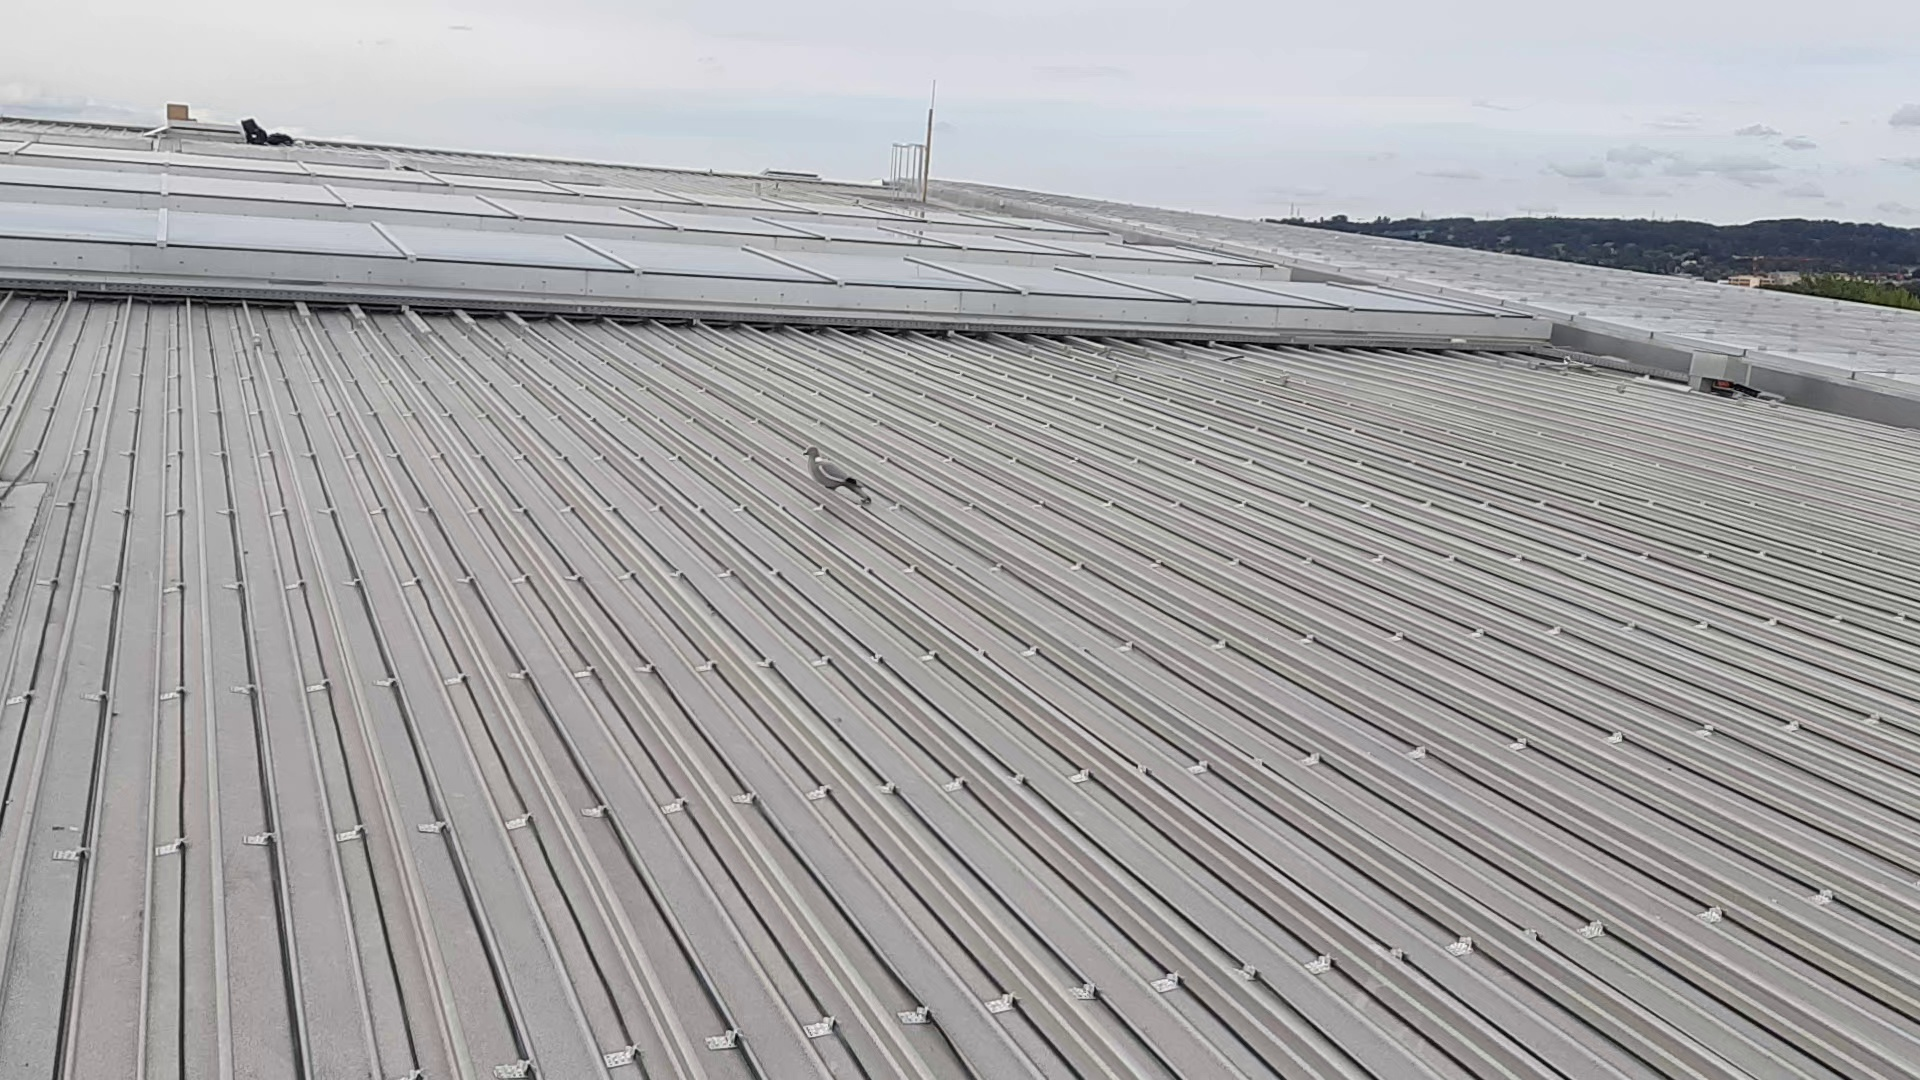Pigeon: (794, 436, 882, 504)
